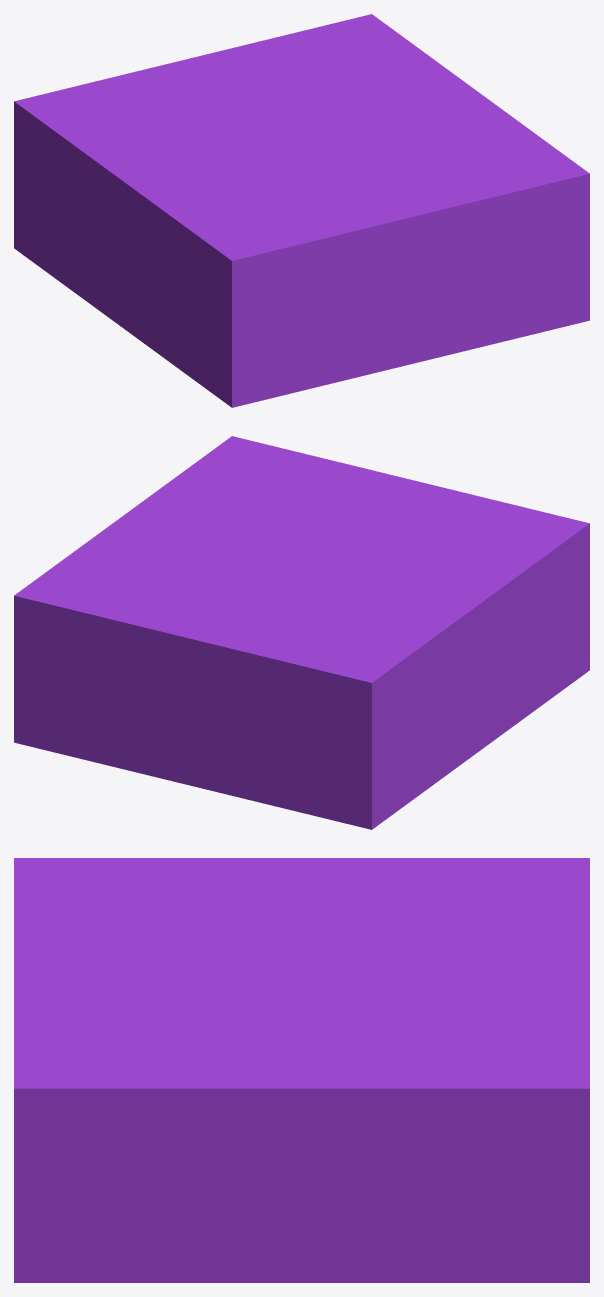
The model's file is ExhibitGlass_chunks.fbx.
The picture shows the model from 3 angles, top to bottom: view 1: azimuth 30°, elevation 25°; view 2: azimuth 150°, elevation 25°; view 3: azimuth 270°, elevation 25°; orthographic projection. The views are drawn at different scales.
Parts seen in each view (by area): view 1: ExhibitGlass_0, ExhibitGlass_3, ExhibitGlass_7, ExhibitGlass_14, ExhibitGlass_2, ExhibitGlass_16, ExhibitGlass_6, ExhibitGlass_10, ExhibitGlass_9, ExhibitGlass_13, ExhibitGlass_4, ExhibitGlass_21 (+5 smaller); view 2: ExhibitGlass_12, ExhibitGlass_20, ExhibitGlass_7, ExhibitGlass_0, ExhibitGlass_19, ExhibitGlass_14, ExhibitGlass_2, ExhibitGlass_21, ExhibitGlass_16, ExhibitGlass_10, ExhibitGlass_13, ExhibitGlass_9 (+5 smaller); view 3: ExhibitGlass_3, ExhibitGlass_5, ExhibitGlass_7, ExhibitGlass_12, ExhibitGlass_13, ExhibitGlass_2, ExhibitGlass_10, ExhibitGlass_0, ExhibitGlass_9, ExhibitGlass_8, ExhibitGlass_21, ExhibitGlass_20 (+5 smaller).
Boxes of the visible parts, left/top/right/bottom form: ExhibitGlass_0: left=173, top=191, right=394, bottom=407; ExhibitGlass_3: left=452, top=133, right=589, bottom=349; ExhibitGlass_7: left=185, top=46, right=458, bottom=150; ExhibitGlass_14: left=33, top=115, right=120, bottom=314; ExhibitGlass_2: left=42, top=116, right=314, bottom=208; ExhibitGlass_16: left=120, top=185, right=200, bottom=384; ExhibitGlass_6: left=384, top=142, right=537, bottom=281; ExhibitGlass_10: left=377, top=119, right=533, bottom=215; ExhibitGlass_9: left=235, top=149, right=437, bottom=236; ExhibitGlass_13: left=191, top=16, right=415, bottom=120; ExhibitGlass_4: left=359, top=278, right=468, bottom=376; ExhibitGlass_21: left=14, top=69, right=214, bottom=162; ExhibitGlass_12: left=14, top=593, right=219, bottom=792; ExhibitGlass_20: left=73, top=610, right=260, bottom=787; ExhibitGlass_7: left=58, top=521, right=363, bottom=607; ExhibitGlass_0: left=406, top=487, right=589, bottom=693; ExhibitGlass_19: left=216, top=693, right=388, bottom=807; ExhibitGlass_14: left=389, top=615, right=478, bottom=807; ExhibitGlass_2: left=337, top=527, right=507, bottom=665; ExhibitGlass_21: left=240, top=612, right=393, bottom=718; ExhibitGlass_16: left=478, top=566, right=557, bottom=745; ExhibitGlass_10: left=158, top=468, right=387, bottom=525; ExhibitGlass_13: left=17, top=563, right=317, bottom=616; ExhibitGlass_9: left=289, top=474, right=440, bottom=577; ExhibitGlass_3: left=14, top=1055, right=211, bottom=1282; ExhibitGlass_5: left=170, top=1091, right=415, bottom=1282; ExhibitGlass_7: left=221, top=924, right=473, bottom=1128; ExhibitGlass_12: left=395, top=1077, right=589, bottom=1282; ExhibitGlass_13: left=389, top=935, right=589, bottom=1183; ExhibitGlass_2: left=147, top=861, right=530, bottom=943; ExhibitGlass_10: left=14, top=988, right=253, bottom=1096; ExhibitGlass_0: left=14, top=858, right=185, bottom=953; ExhibitGlass_9: left=14, top=932, right=309, bottom=1001; ExhibitGlass_8: left=190, top=1040, right=420, bottom=1153; ExhibitGlass_21: left=443, top=858, right=589, bottom=958; ExhibitGlass_20: left=473, top=943, right=589, bottom=1048.
Size of the model in its own units: 681 by 267 by 719.
